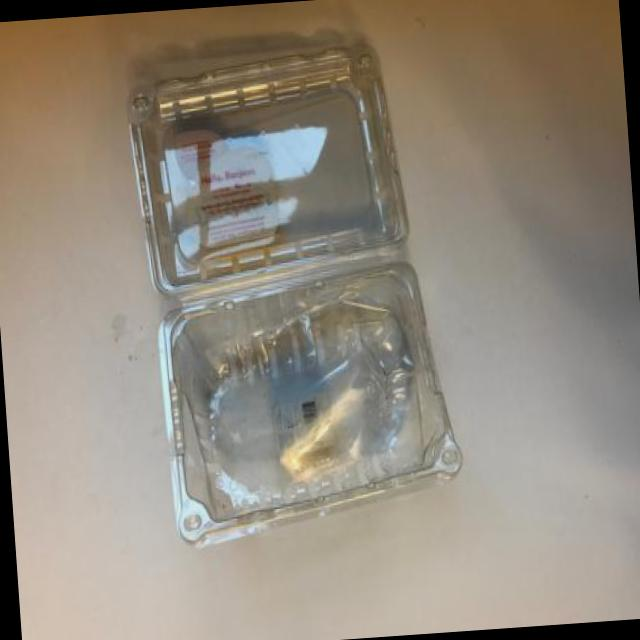Trash: (123, 51, 470, 556)
